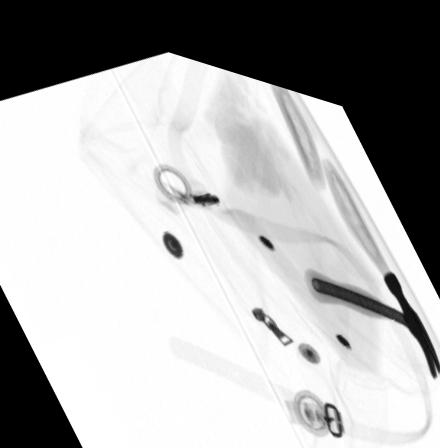Hammer: (303, 246, 440, 351)
